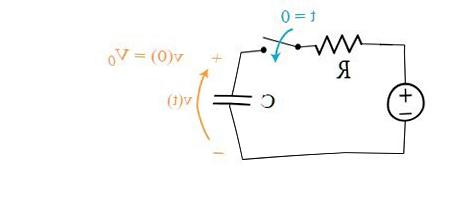Battery: (370, 74, 433, 131)
